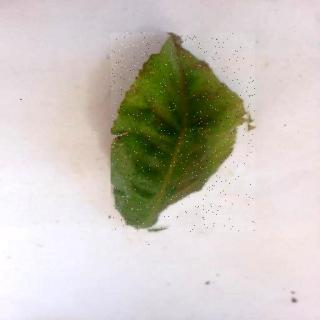Brown Blight: (112, 33, 256, 233)
